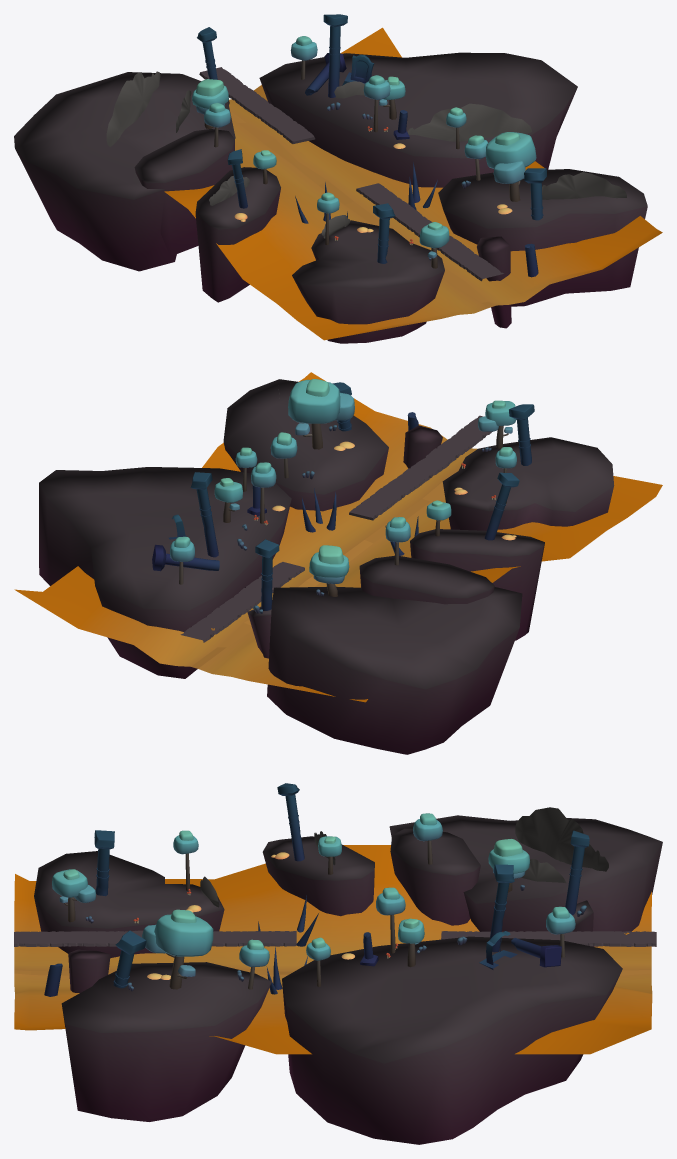
Rendered from stage3wallrun2.gltf.
3 renders of one model, top to bottom at view 1: azimuth 30°, elevation 25°; view 2: azimuth 150°, elevation 25°; view 3: azimuth 270°, elevation 25°, orthographic. The views are drawn at different scales.
Parts seen in each view (by area): view 1: stage3wallrun2_GEO; view 2: stage3wallrun2_GEO; view 3: stage3wallrun2_GEO.
Boxes of the visible parts, x1,y1,x2,y2 form: stage3wallrun2_GEO: (14, 14, 662, 343); stage3wallrun2_GEO: (14, 372, 662, 754); stage3wallrun2_GEO: (14, 783, 662, 1144).
Bounding box in the file's own units: 20368 × 7158 × 21205.
Materials: 2 (2 with a texture image).
